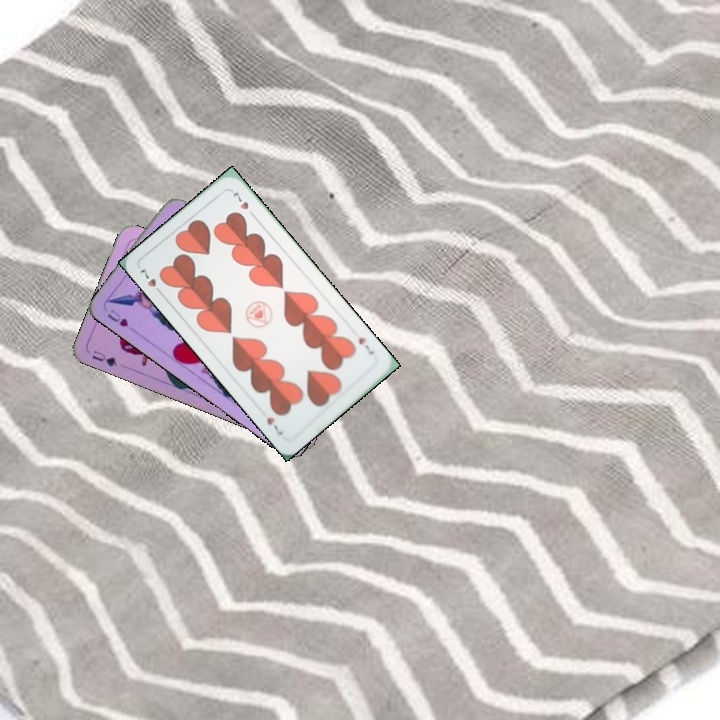GU: (88, 346, 120, 369)
H7: (135, 265, 166, 298), (354, 333, 377, 358)
HU: (103, 305, 131, 330)
